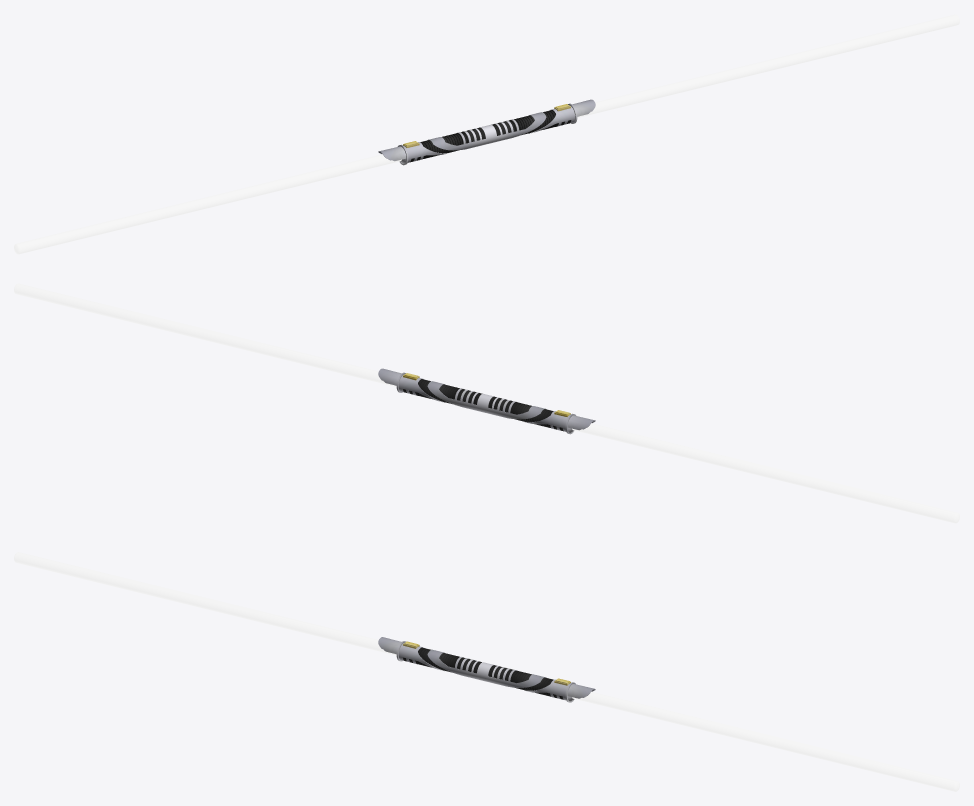
Rendered from light_saber.glb.
The picture shows the model from 3 angles, top to bottom: view 1: azimuth 30°, elevation 25°; view 2: azimuth 150°, elevation 25°; view 3: azimuth 330°, elevation 25°; orthographic projection.
Visible parts, largest first — view 1: Plane; view 2: Plane; view 3: Plane.
Boxes of the visible parts, x1=… form: Plane: x1=14, y1=14, x2=959, y2=254; Plane: x1=14, y1=283, x2=959, y2=523; Plane: x1=14, y1=552, x2=959, y2=791.
Size of the model in its own units: 2.53 by 0.0487 by 0.0484.
Materials: 4 (3 with a texture image).
